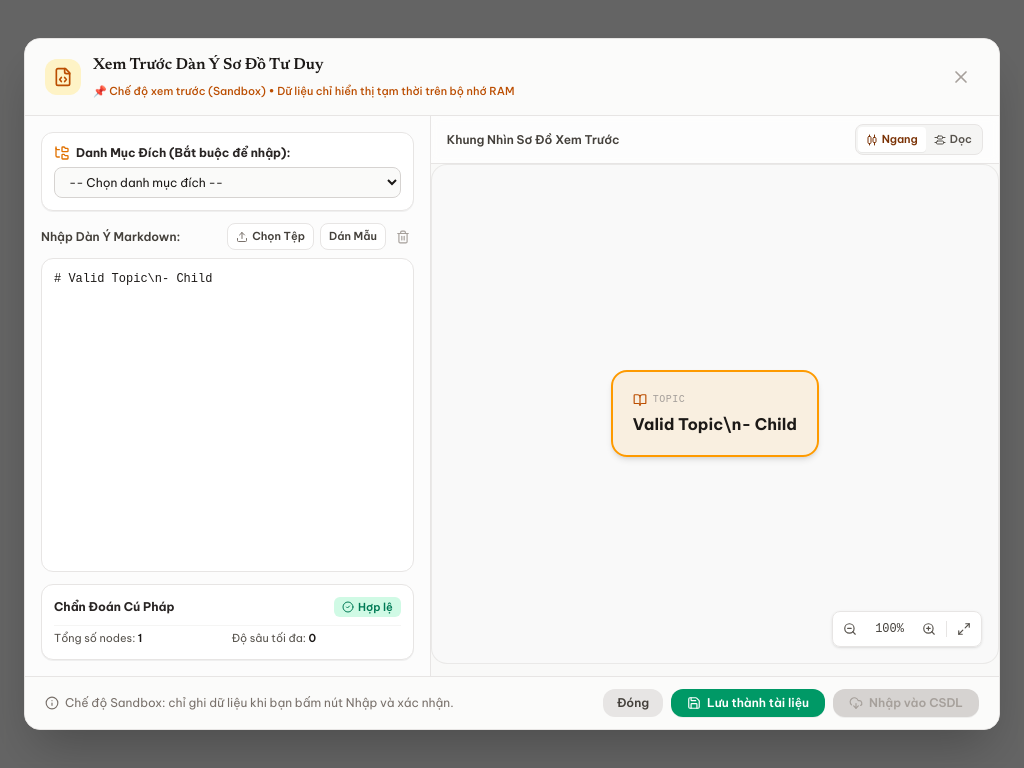
Test: Phase M1 — External Markdown Import to Saved Mind Map Document › Scenario 9: Storage failure surfaces error banner and keeps modal open
The width and height of the screenshot is (1024, 768).
Click the button with test id "btn-save-as-document".
click(748, 703)  # box [671, 689, 825, 717]
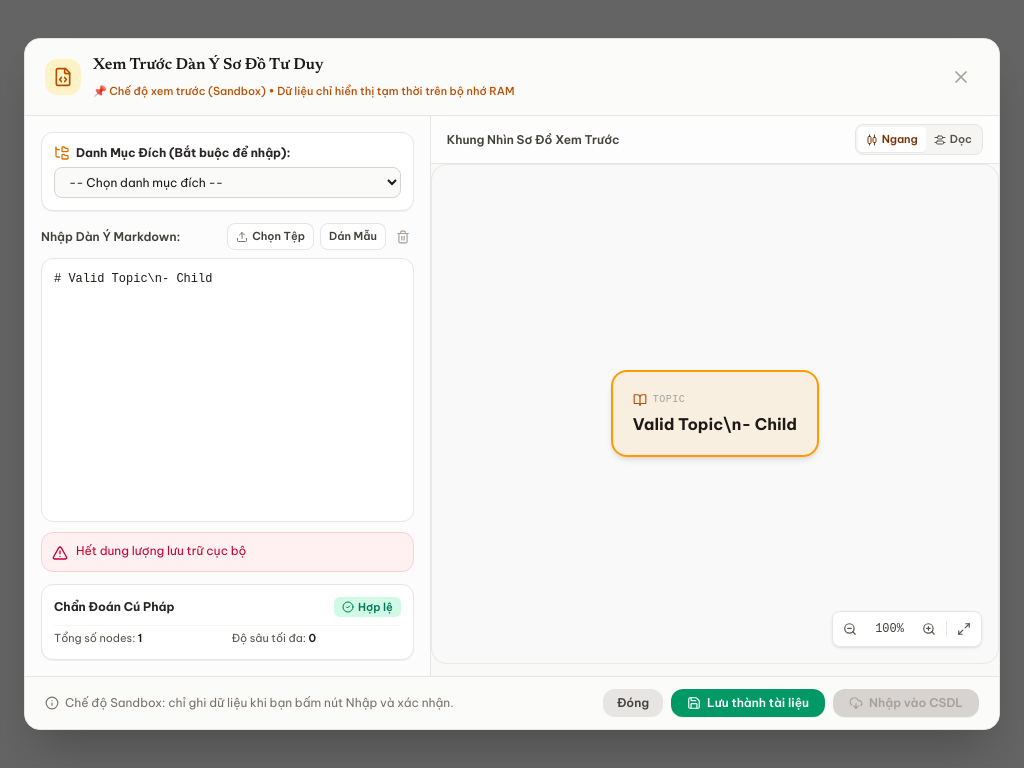
Now the text "Hết dung lượng lưu trữ cục bộ" is shown, box [76, 543, 246, 559]
